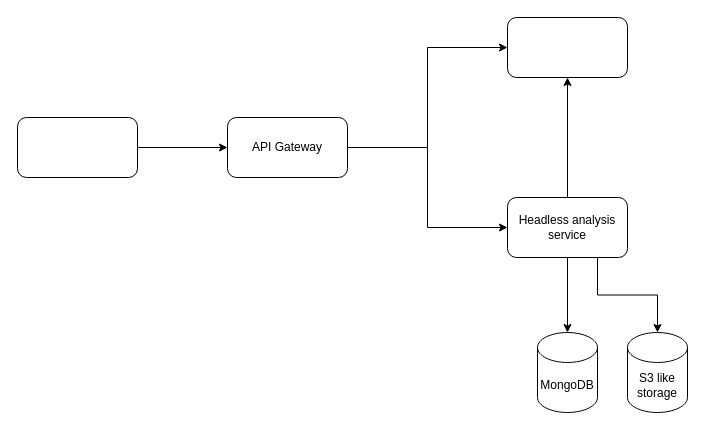
This 705x430 diagram has some shape labels left out. The centre of each missing label's shape, as x and y in pixels:
"Auth service" goes at (x=567, y=47).
"Frontend" goes at (x=77, y=147).
